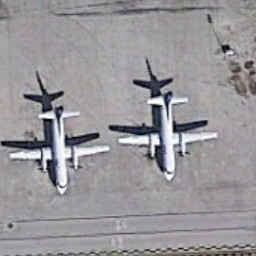Airplane: (4, 95, 112, 201), (117, 84, 224, 187)
